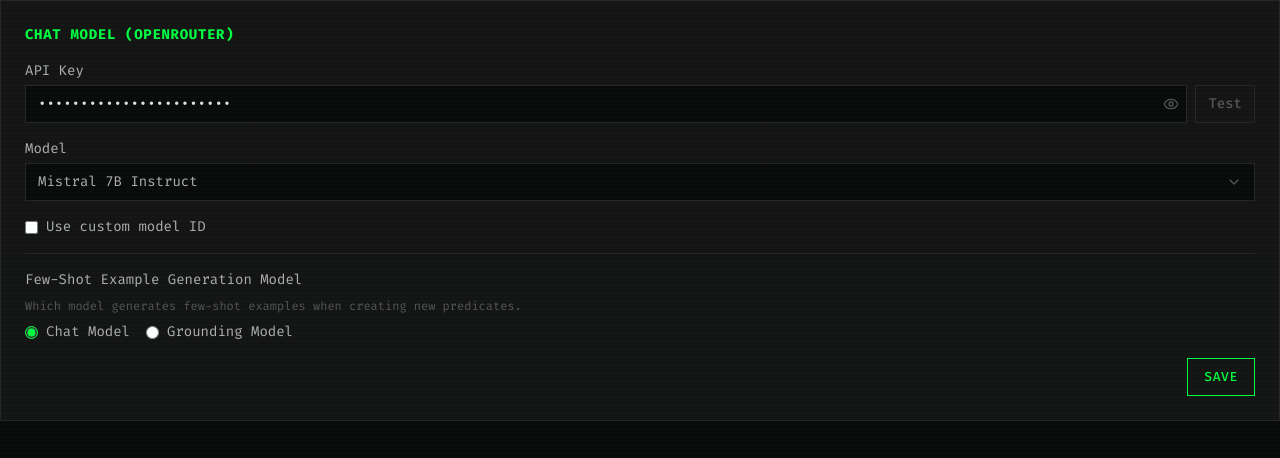
Scenario: OpenRouterConfig › connection status indicator shows after test
The image size is (1280, 458).
Click the button with test id "test-openrouter" at [1225, 104], box [1195,85,1255,123]
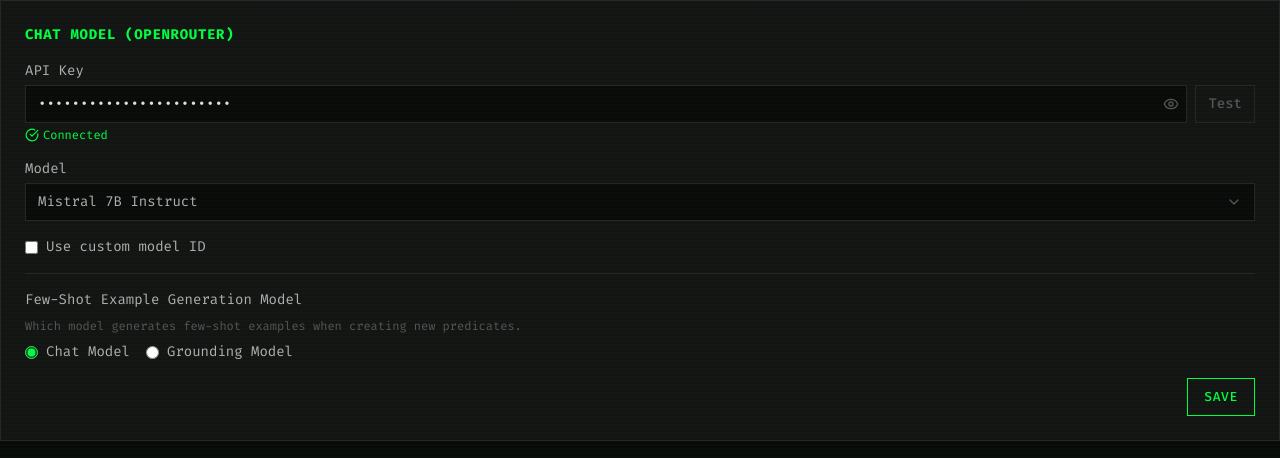
Check: the text "Connected" is shown, box [43,127,108,143]
